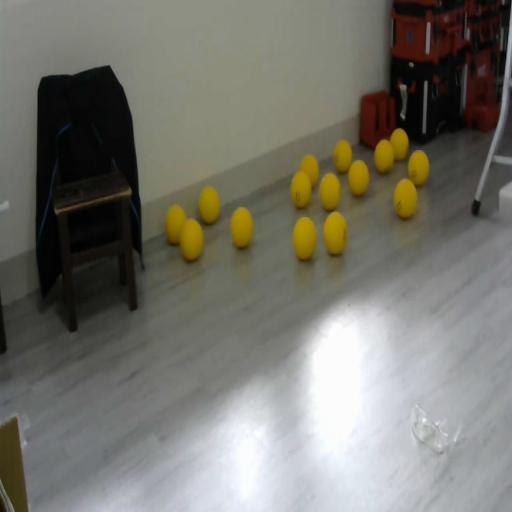FUEL: (292, 215, 317, 261), (179, 217, 204, 262), (229, 206, 254, 250), (323, 211, 348, 255), (393, 178, 417, 219), (318, 172, 342, 212), (347, 159, 370, 196), (198, 186, 220, 224), (407, 150, 429, 186), (298, 154, 320, 189), (389, 126, 409, 162), (374, 138, 394, 174), (333, 140, 352, 174)
